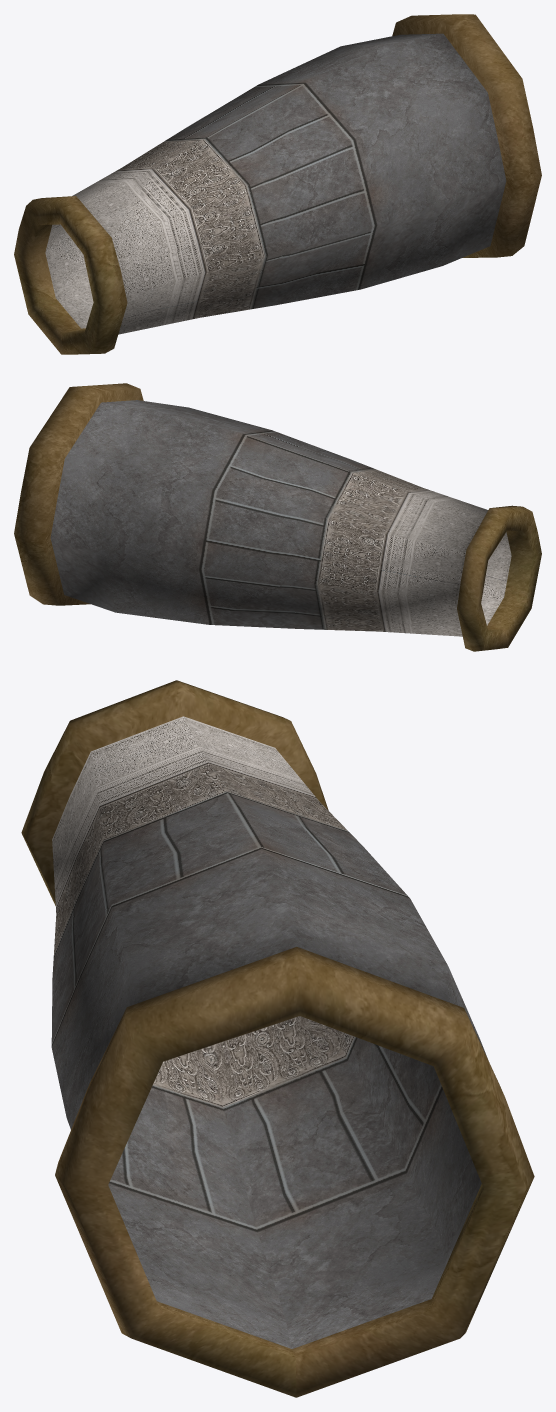
File: HandArmor.fbx
The picture shows the model from 3 angles, top to bottom: view 1: azimuth 30°, elevation 25°; view 2: azimuth 150°, elevation 25°; view 3: azimuth 270°, elevation 25°; orthographic projection. The views are drawn at different scales.
Visible parts, largest first — view 1: HandArmor_Right; view 2: HandArmor_Right; view 3: HandArmor_Right.
Boxes of the visible parts, bbox=[...] form: HandArmor_Right: bbox=[14, 14, 541, 354]; HandArmor_Right: bbox=[14, 383, 541, 651]; HandArmor_Right: bbox=[21, 680, 534, 1397].
Size of the model in its own units: 111 by 56.27 by 59.94.
